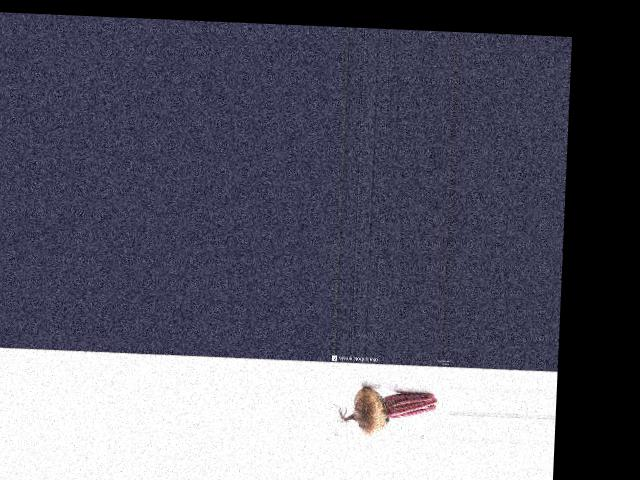beet: (331, 385, 437, 437)
